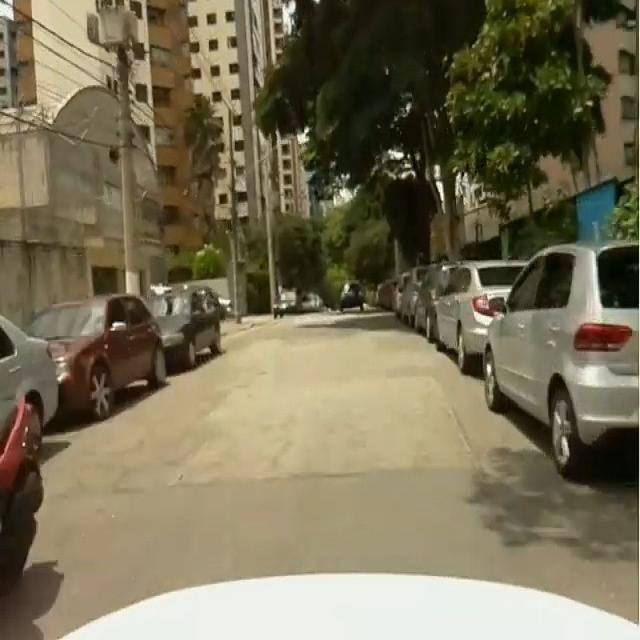car: (484, 244, 640, 477), (29, 295, 166, 419), (1, 315, 58, 442), (150, 285, 225, 368)
